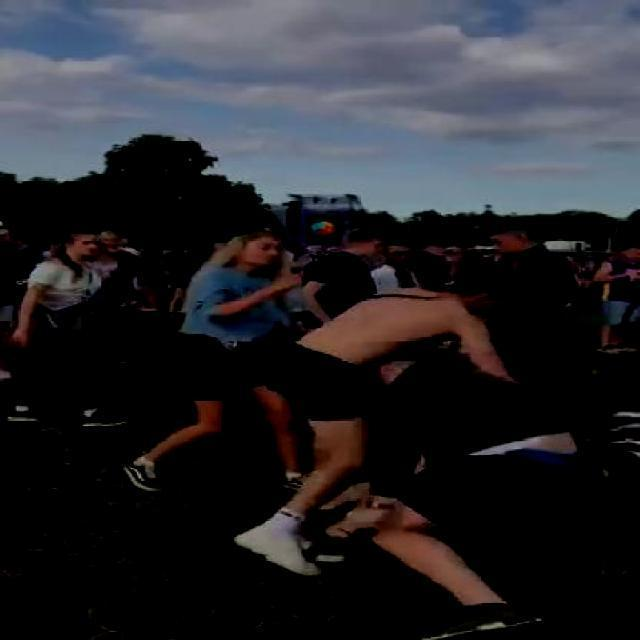fight: (254, 266, 580, 640)
